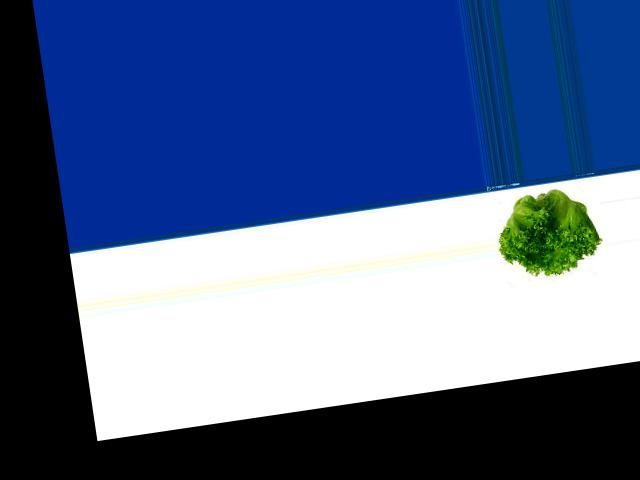lettuce: (491, 178, 602, 285)
